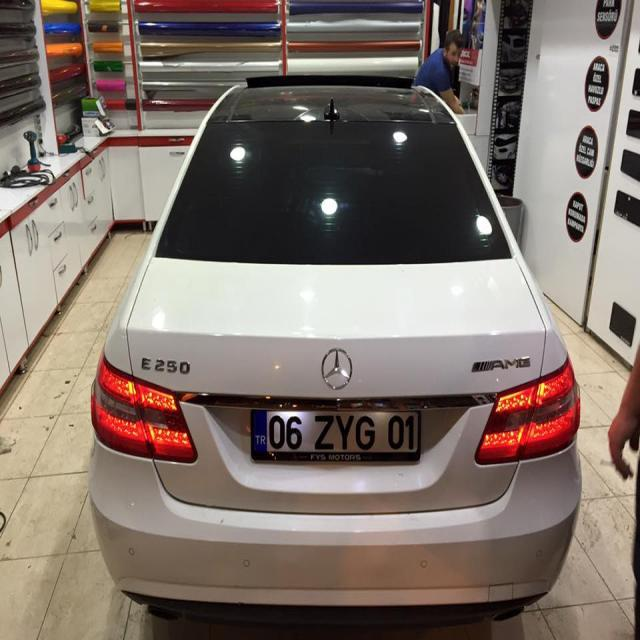plate: (250, 410, 423, 463)
